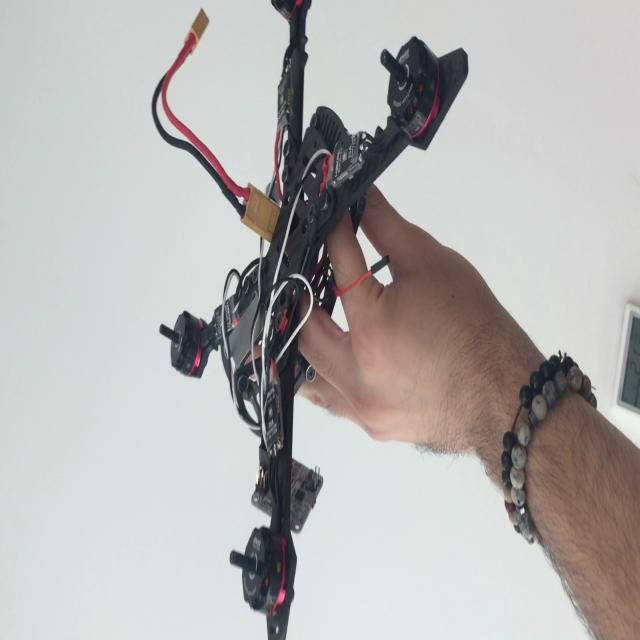drone: (157, 6, 474, 636)
